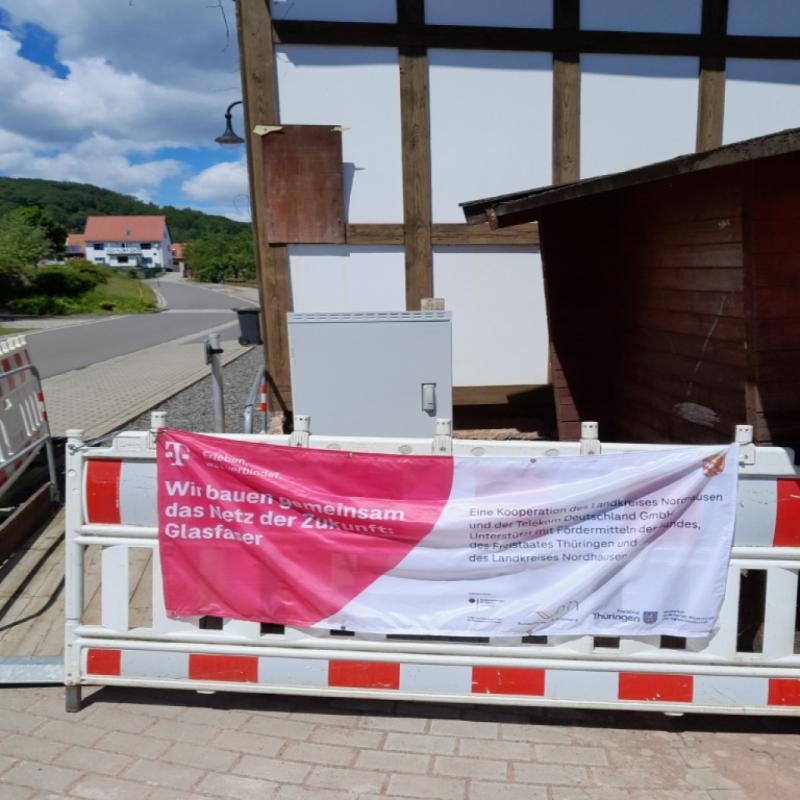Banner: (160, 426, 743, 645)
